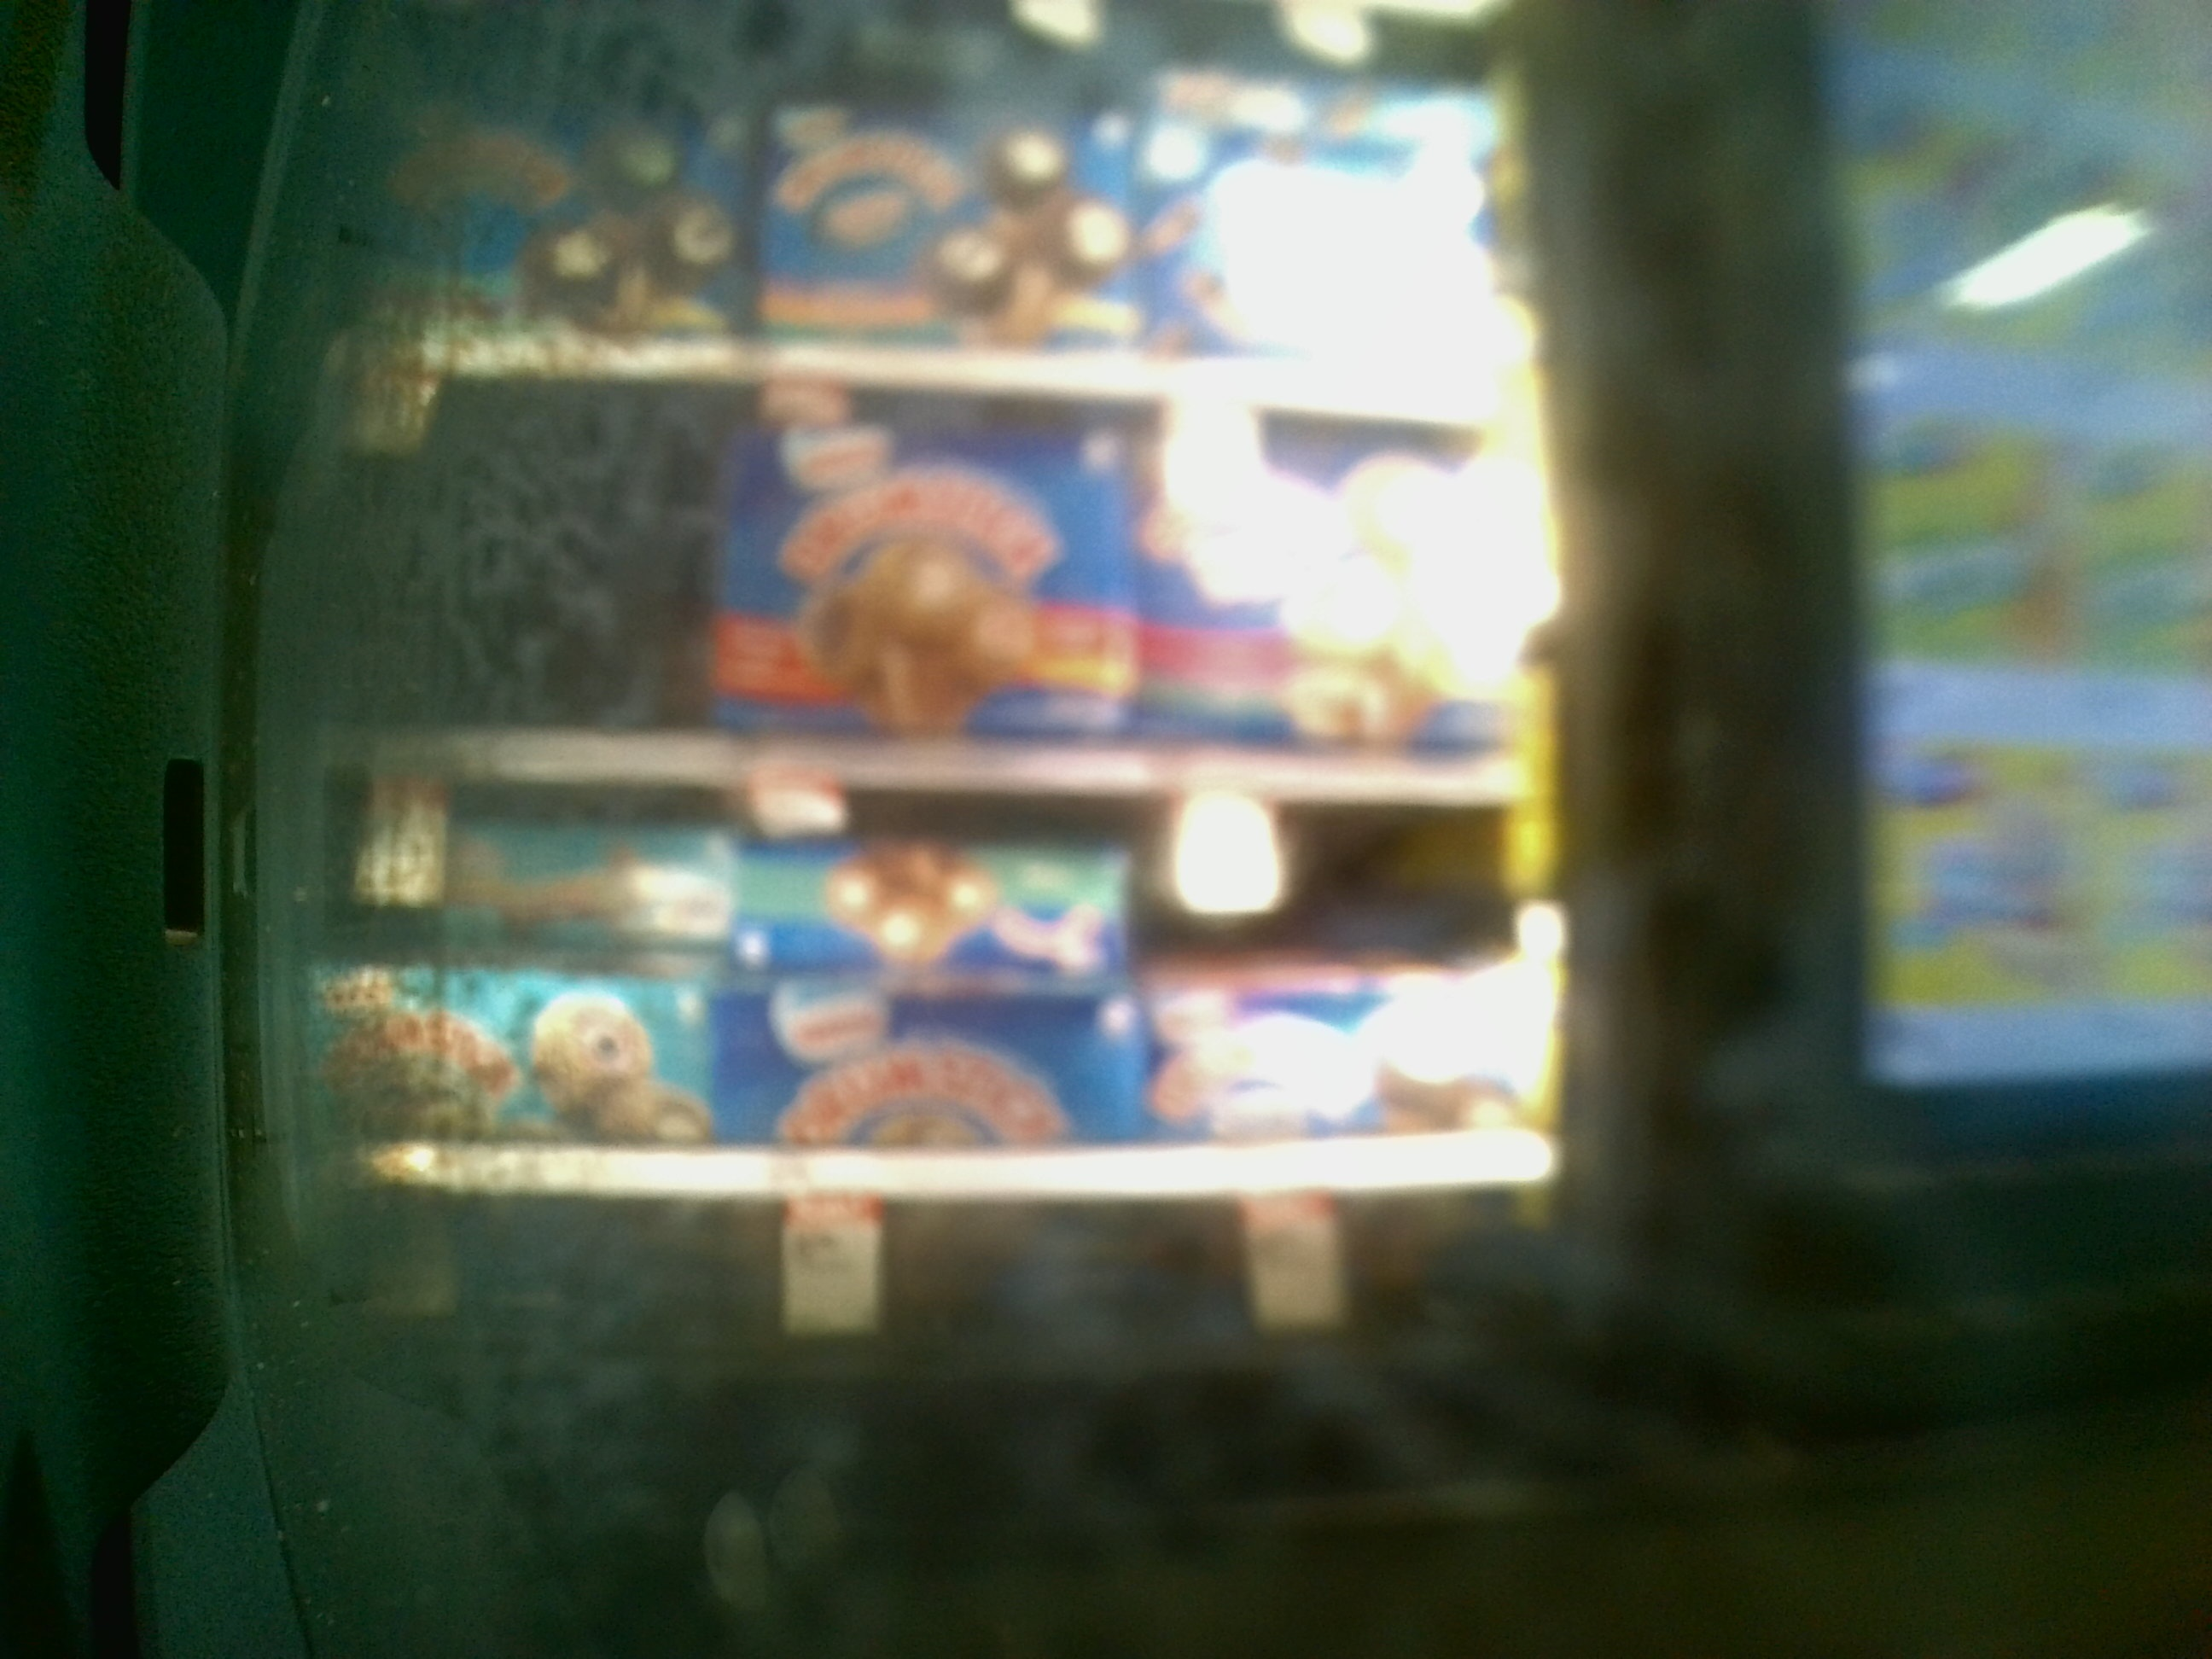shelf: (303, 774, 1578, 1310), (308, 362, 1575, 798)
